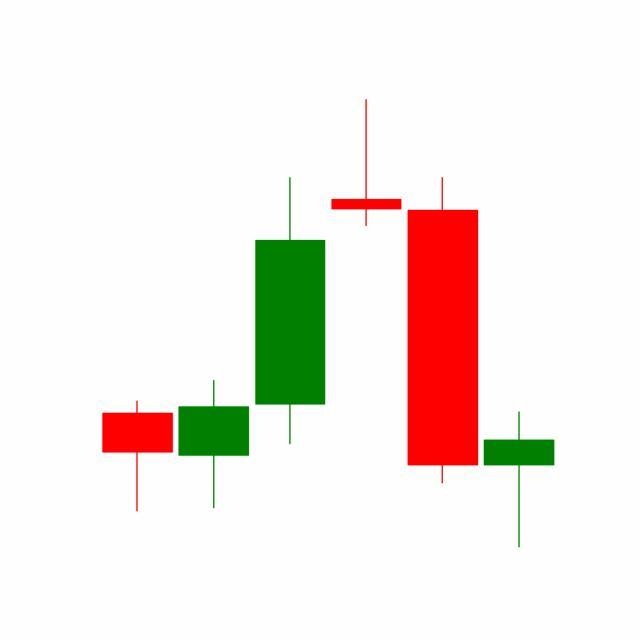Evening Doji Star: (252, 99, 482, 489)
